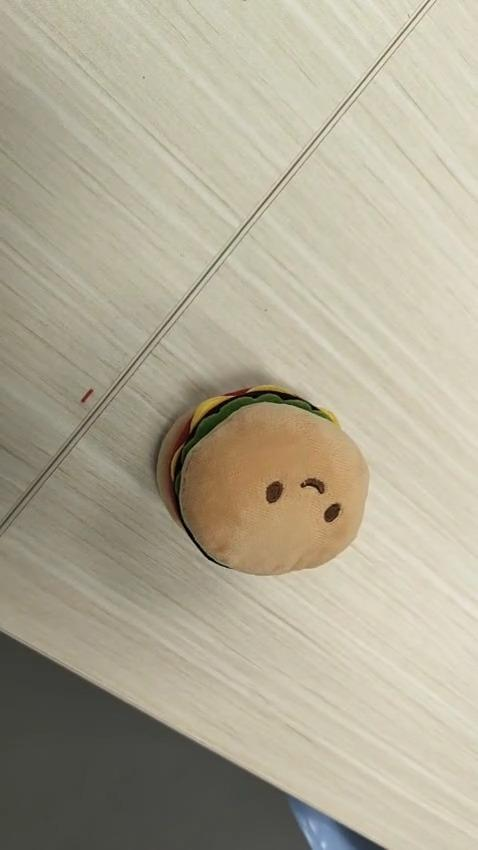hamburger: (155, 383, 370, 576)
